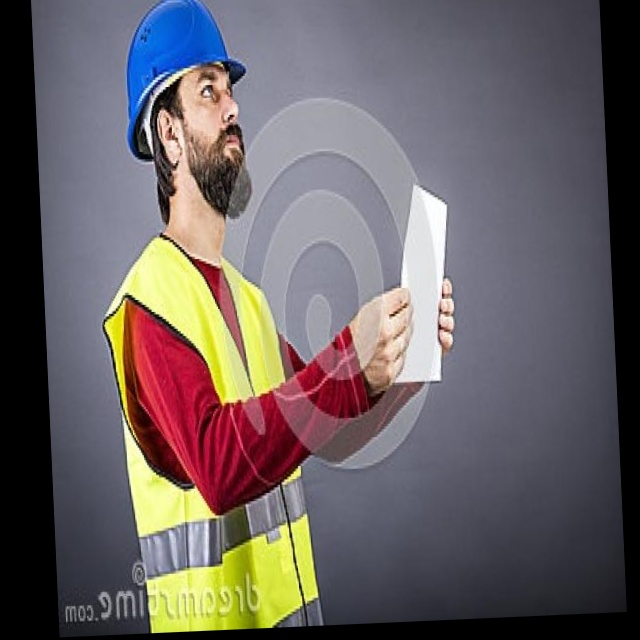Con_Casco: (121, 0, 254, 220)
Con_Chaleco: (103, 248, 317, 631)
